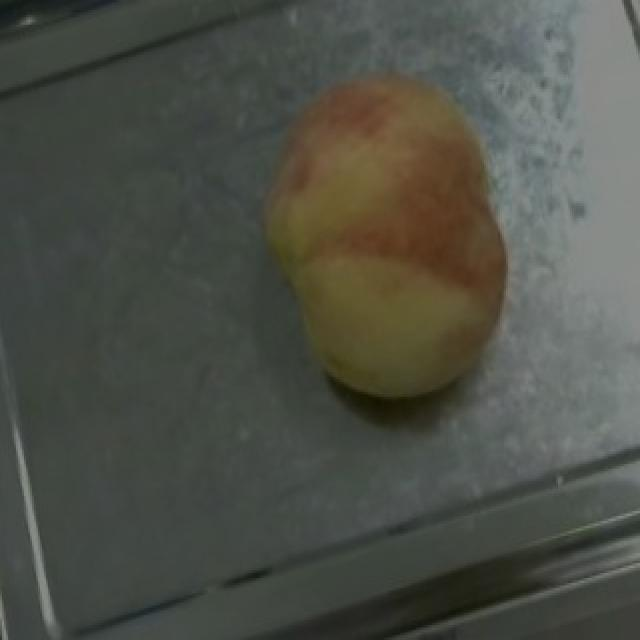Fruit: (224, 35, 546, 394)
